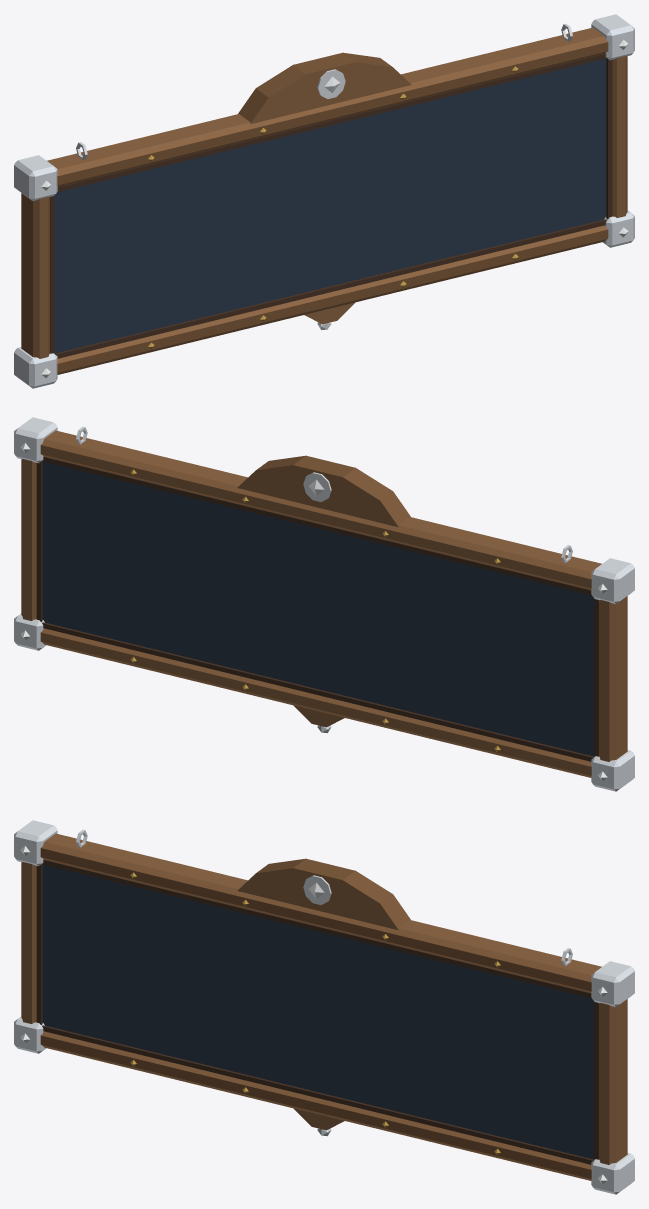
File: SignCarvedBoard.obj
The picture shows the model from 3 angles, top to bottom: view 1: azimuth 30°, elevation 25°; view 2: azimuth 150°, elevation 25°; view 3: azimuth 330°, elevation 25°; orthographic projection.
Size of the model in its own units: 9.74 by 4.08 by 0.692.
